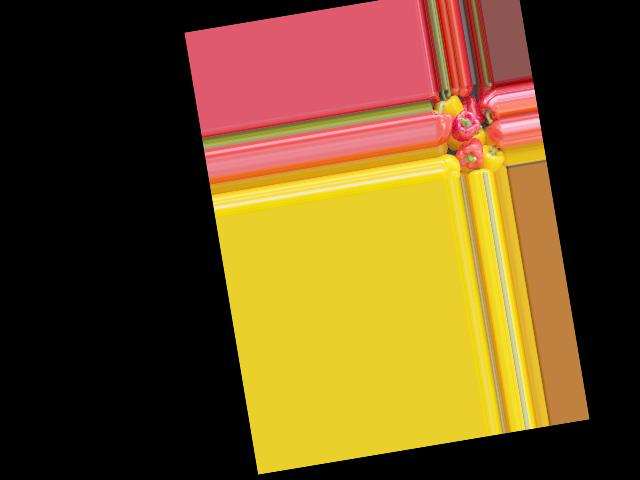bell_pepper: (478, 145, 504, 173)
